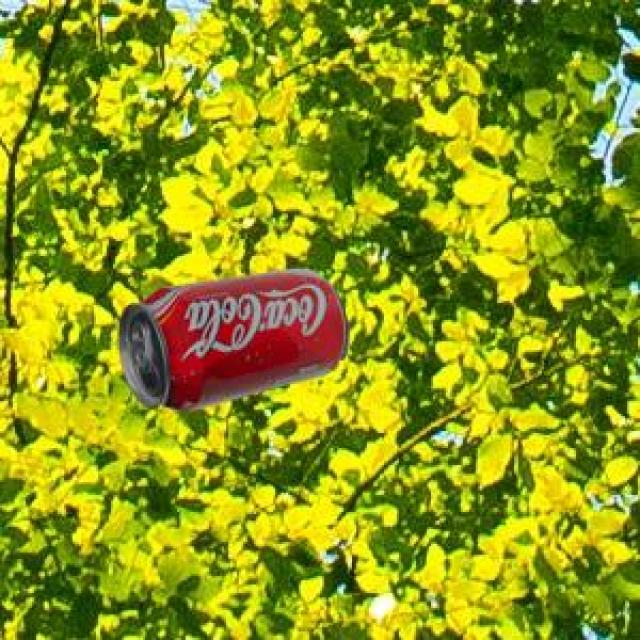logam: (116, 266, 345, 409)
